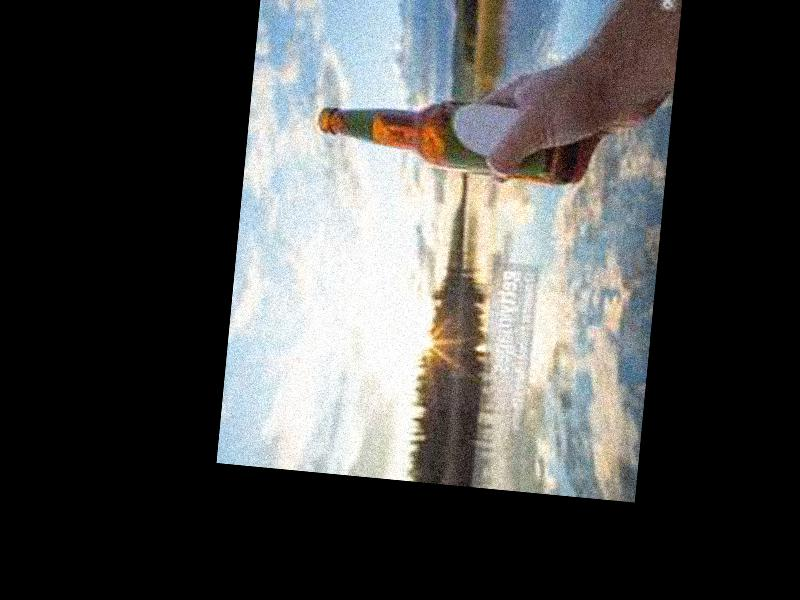Beer: (311, 86, 577, 189)
